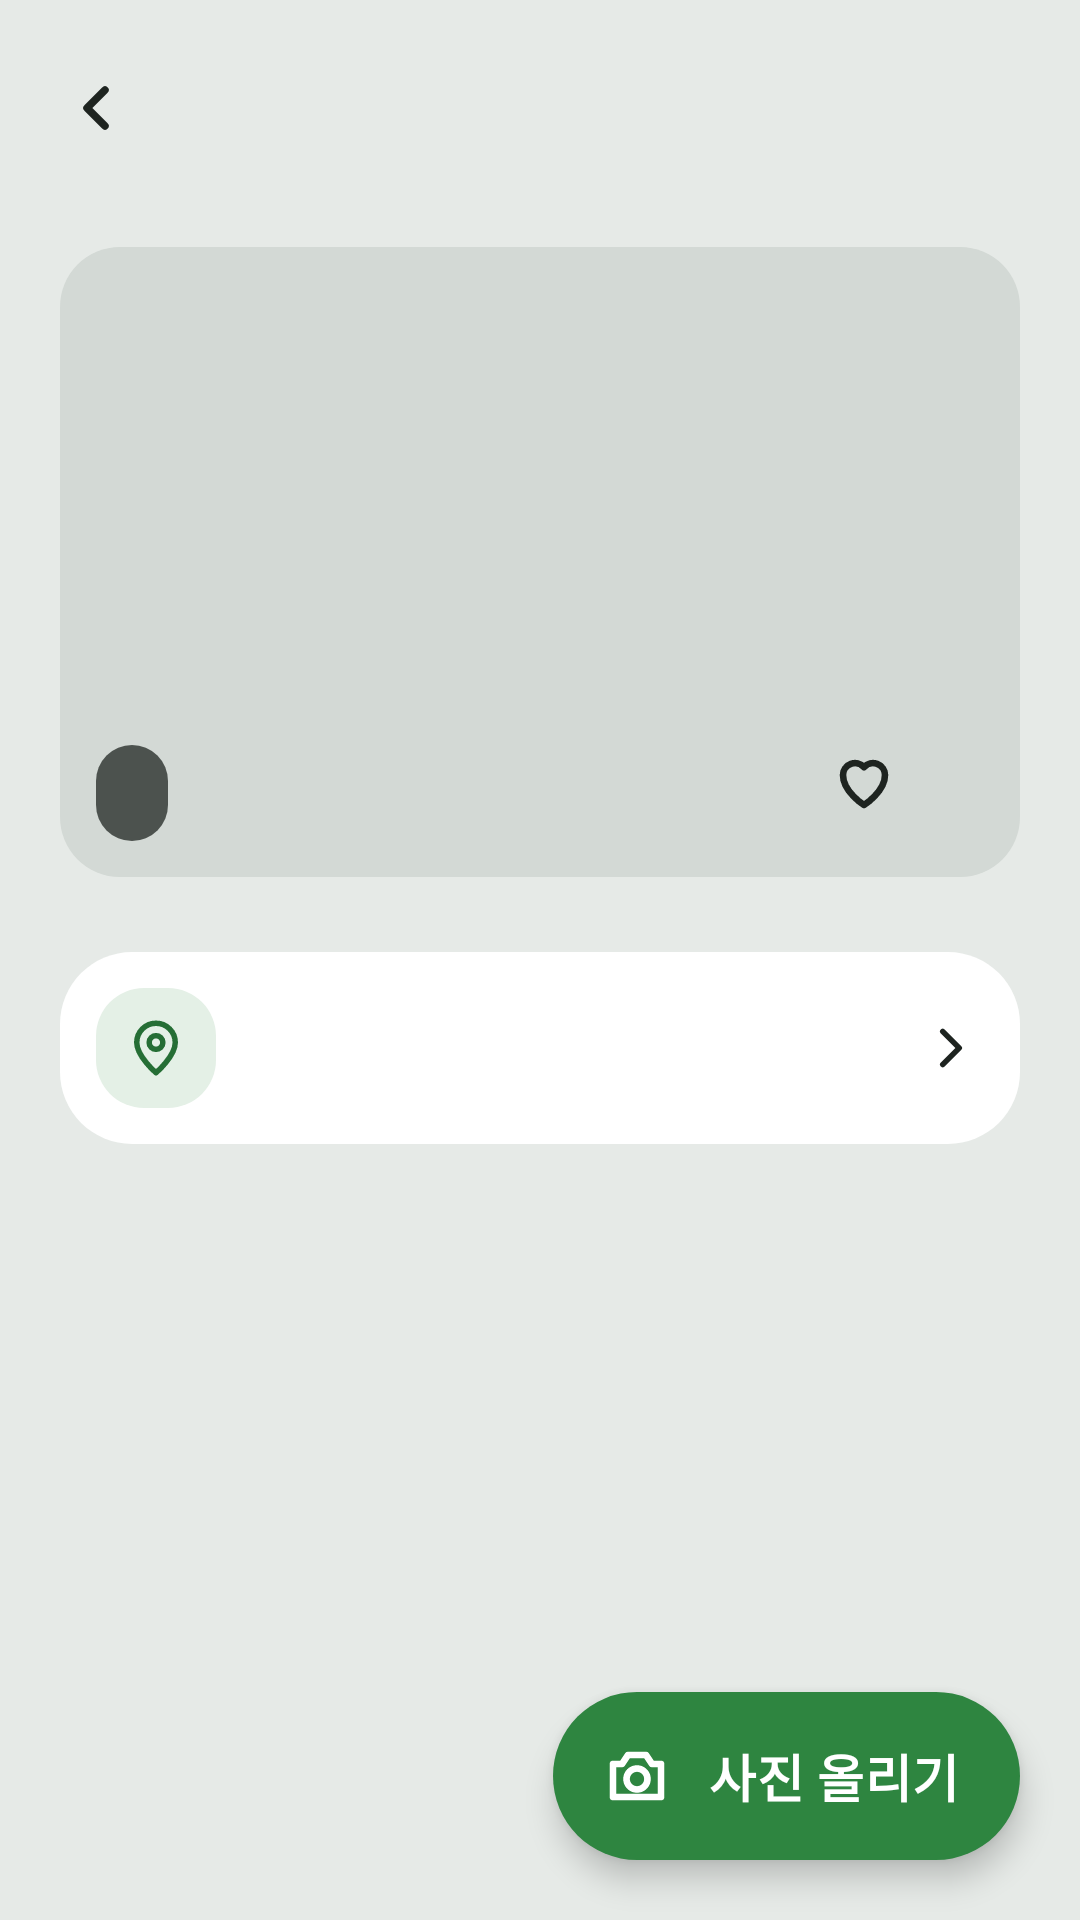

Where icons sit on this 1080×1920 app screen, as (x1, y1, x2, y2):
chevron: (939, 1028, 962, 1068)
pin: (96, 988, 216, 1108)
뒤로: (83, 86, 109, 130)
